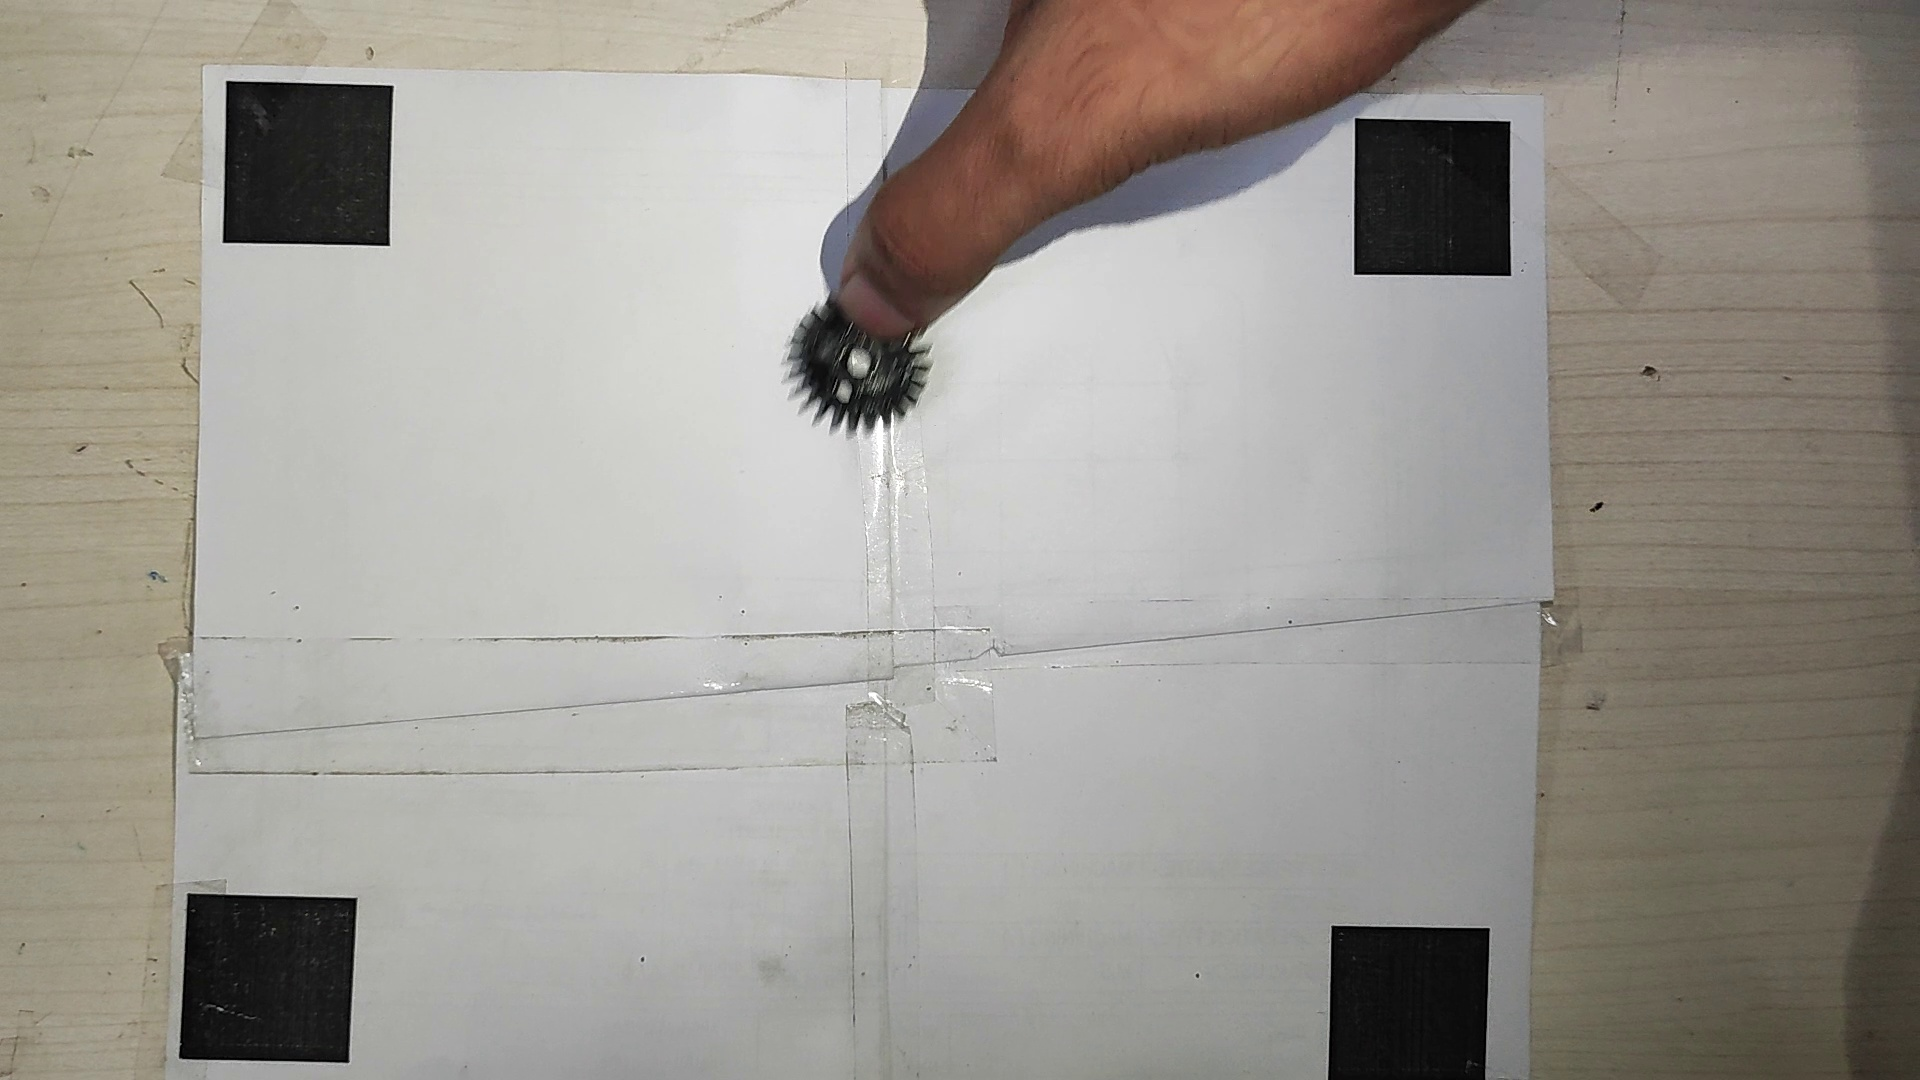Gear: (778, 289, 934, 442)
